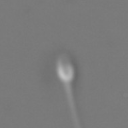normal: (57, 81, 92, 128)
